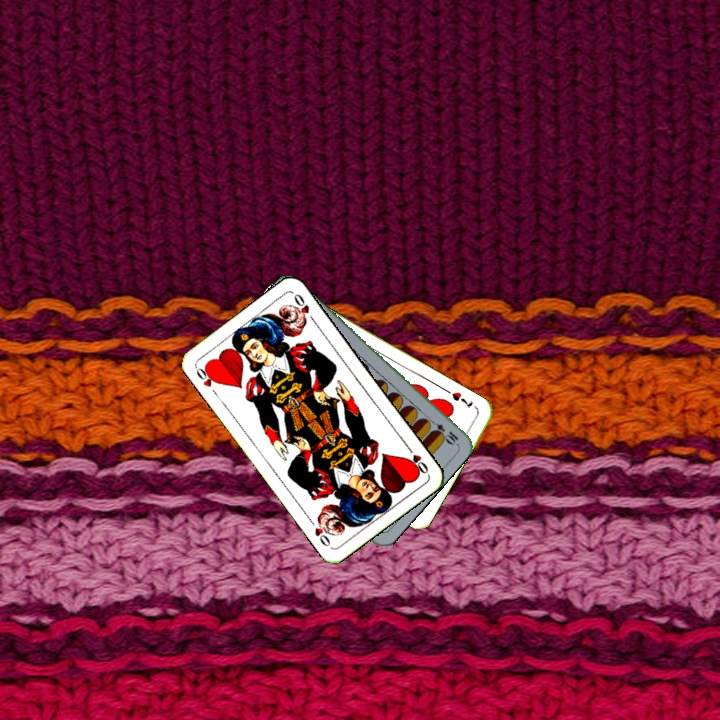E10: (425, 415, 461, 447)
H7: (447, 388, 475, 411)
HO: (402, 441, 431, 477), (191, 362, 221, 389)
